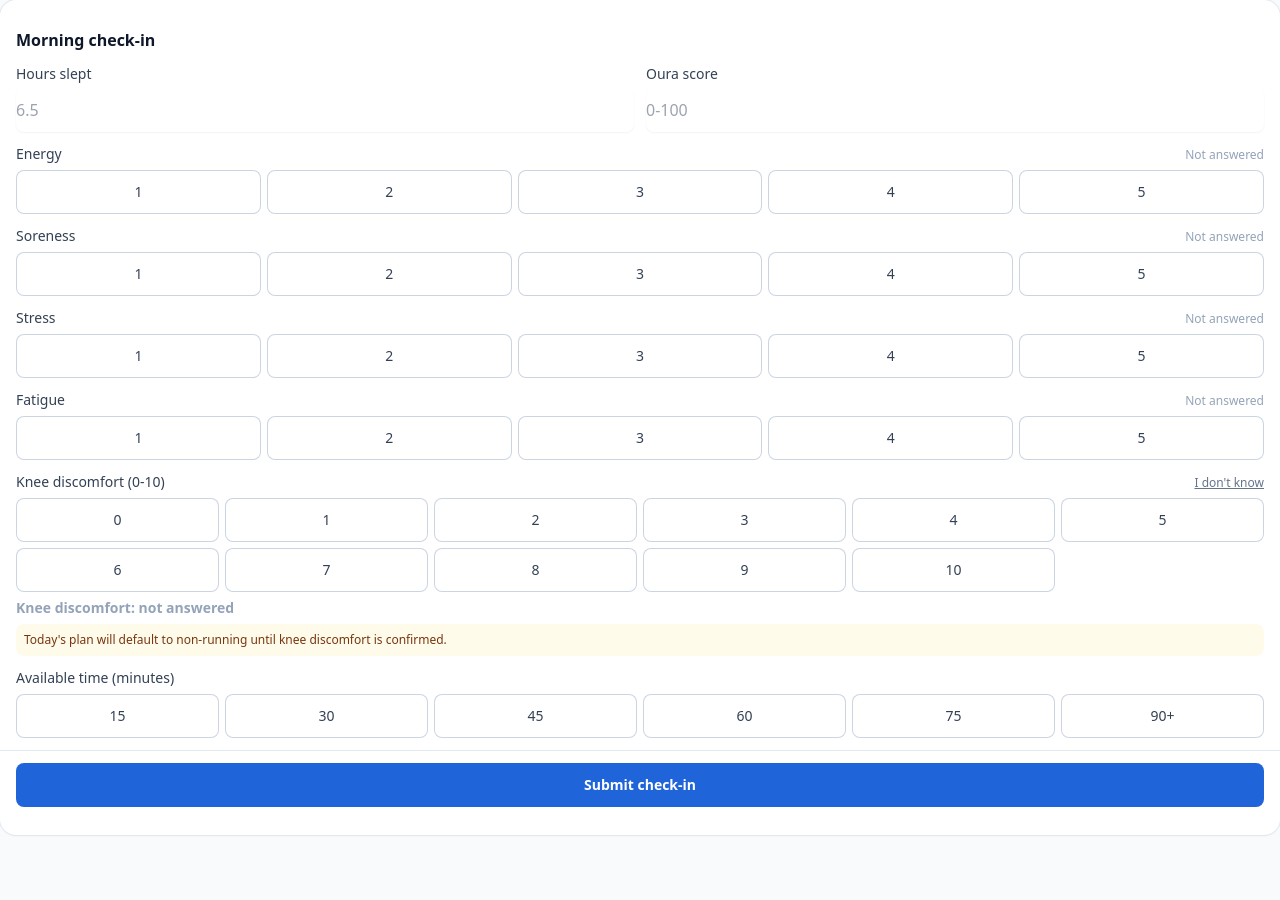
Test case: requirement 3: selecting a score displays the matching definition › Energy = 3 reads as Selected: 3, Normal
The image size is (1280, 900).
Click the 1st radio button labelled "3" at (640, 192), box x1=518 y1=170 x2=762 y2=214
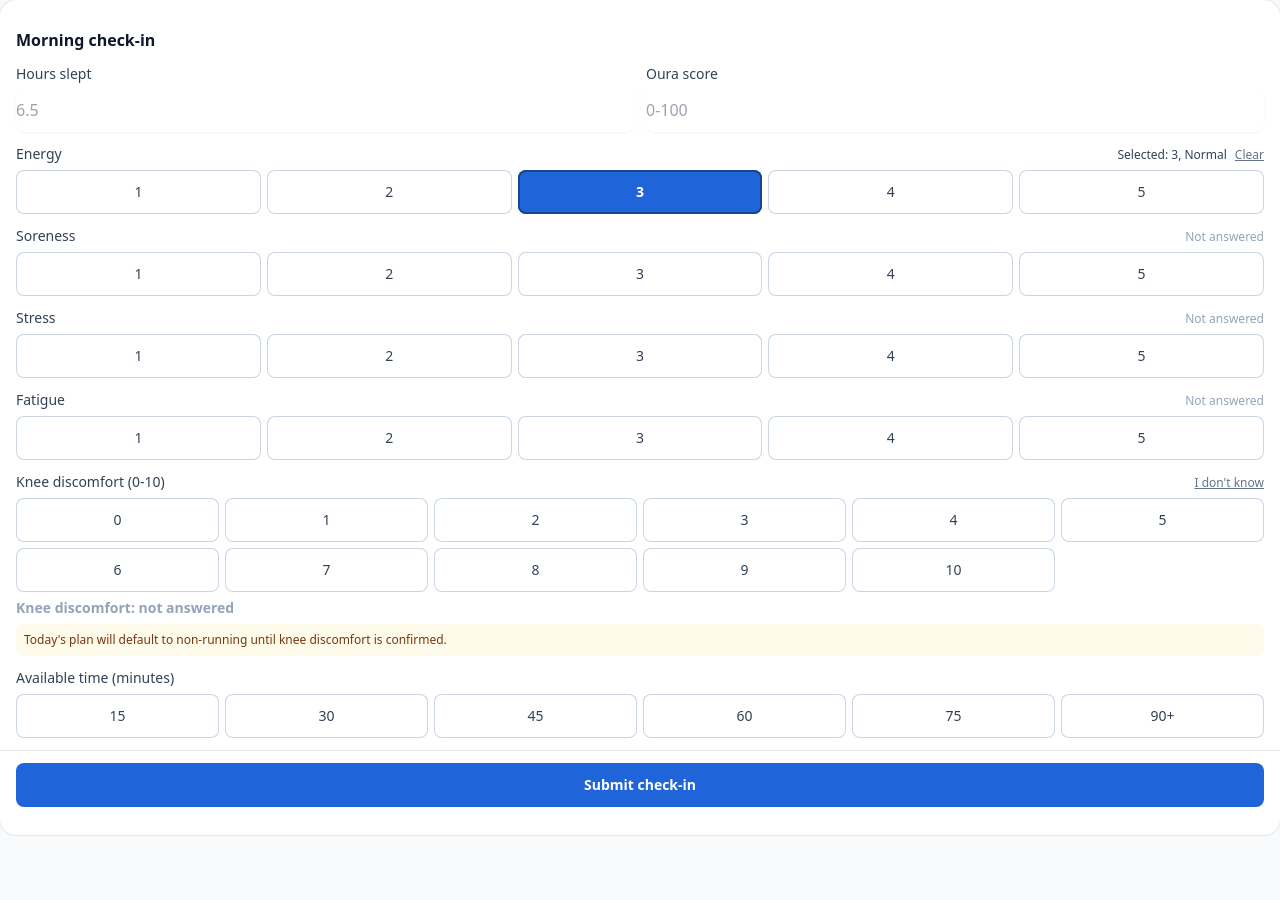
Result: the text "Selected: 3, Normal" is shown at x1=1118 y1=147 x2=1227 y2=163
